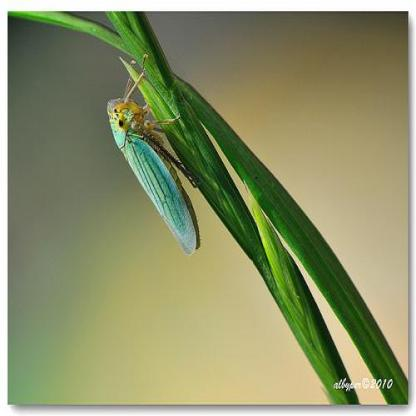Green-Leafhopper: (105, 51, 210, 261)
